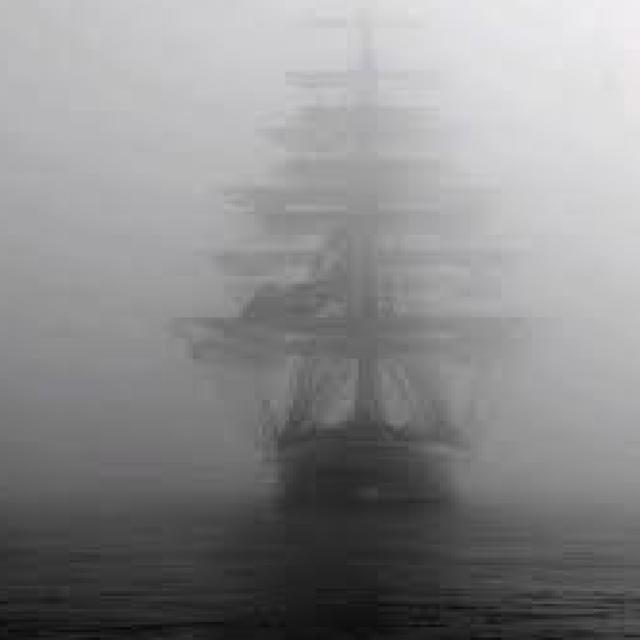fishing boat: (166, 25, 614, 535)
